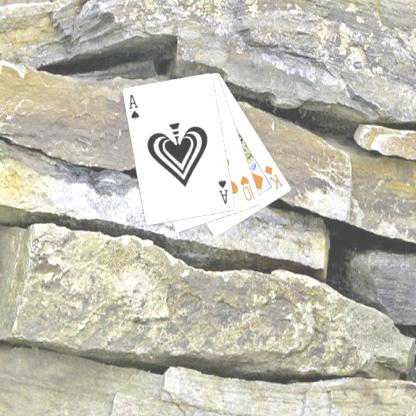10H: (238, 173, 256, 202)
AS: (126, 91, 141, 121), (216, 176, 230, 206)
KD: (262, 162, 284, 191)
